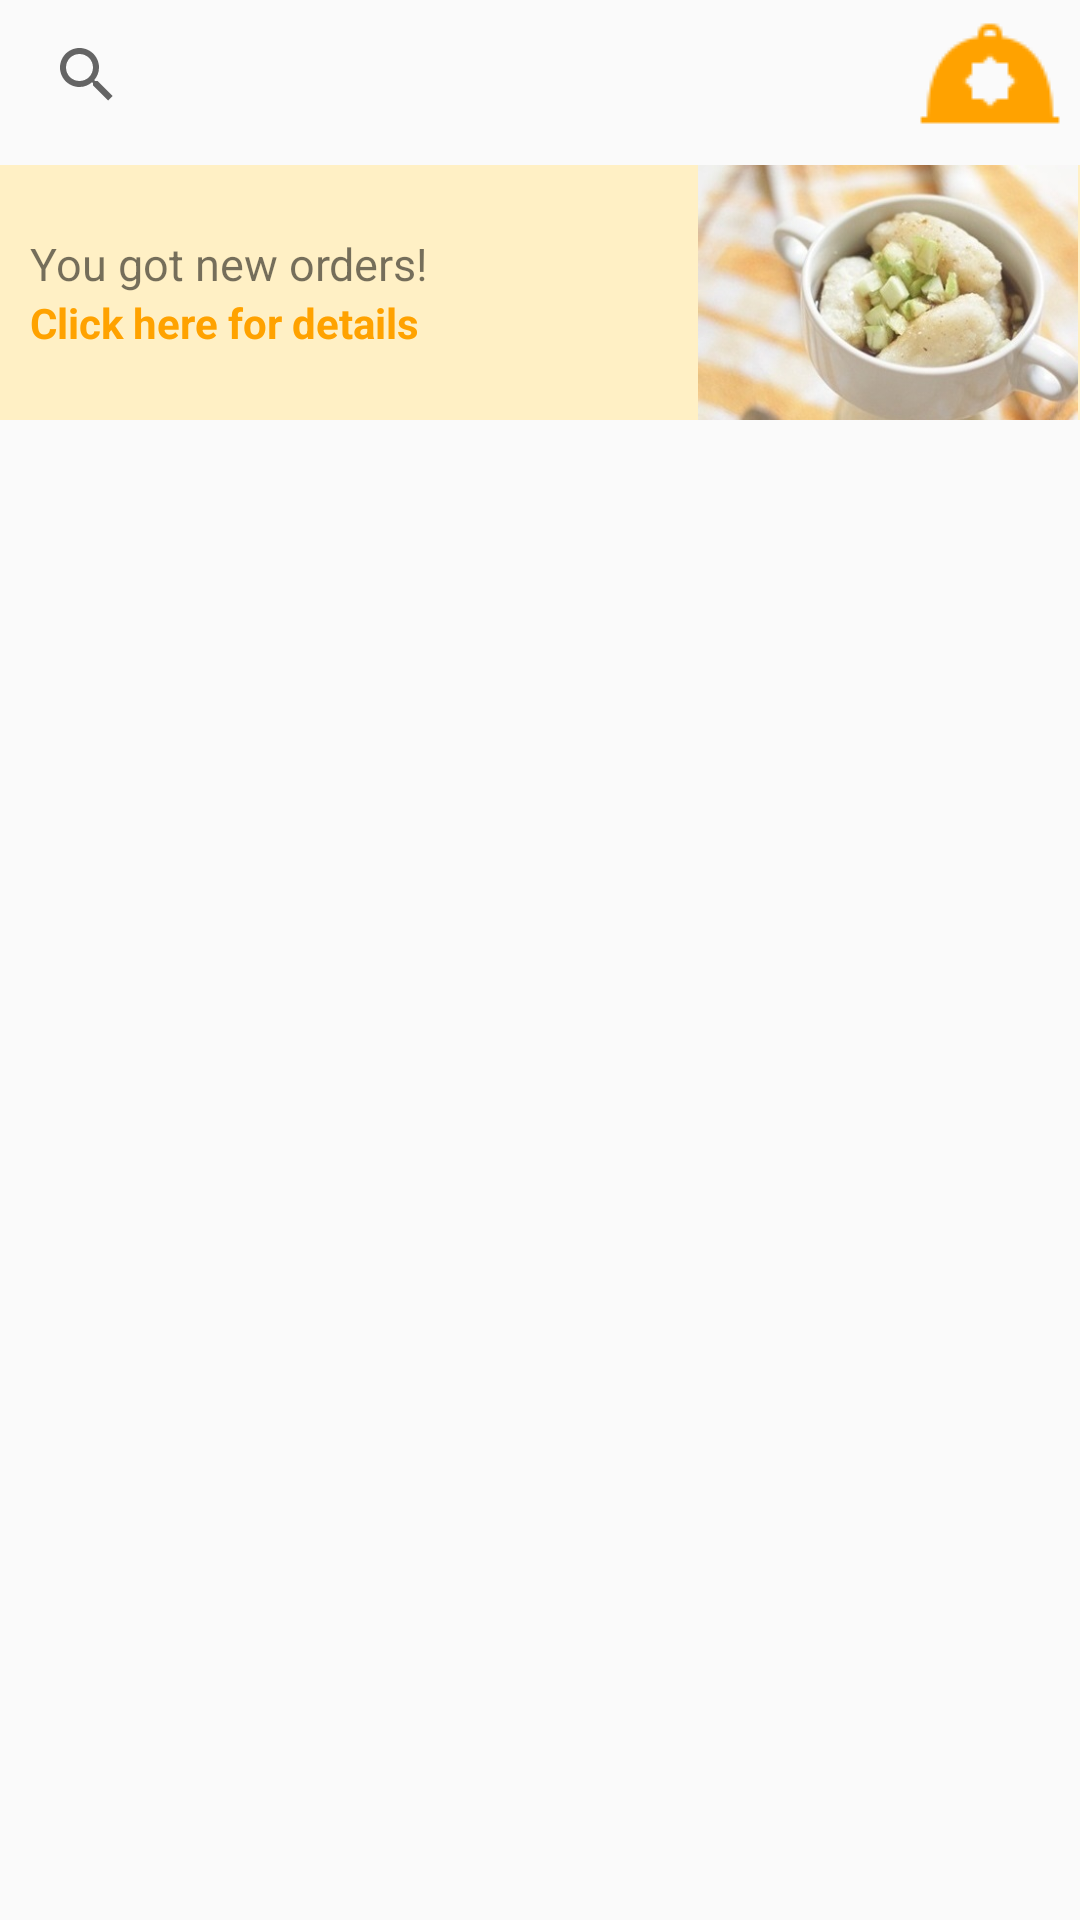

Where to tap for icons on this 1080 x 1920 app screen, as (x=x, y=y):
notiftop: (x=990, y=73)
